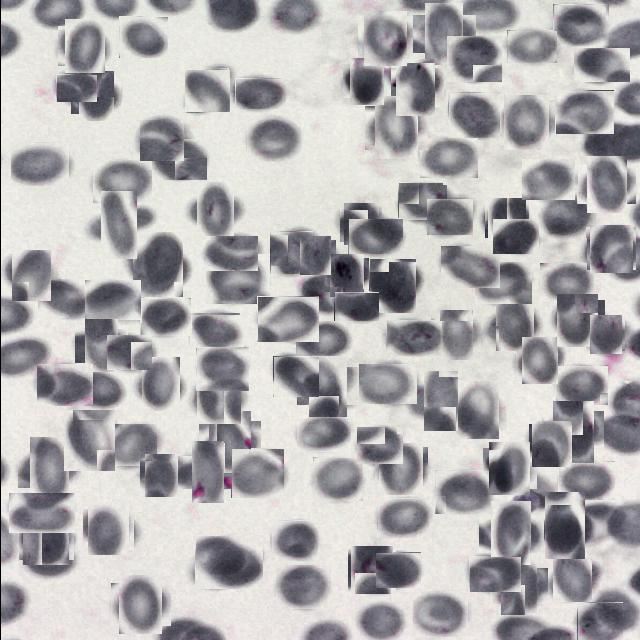red blood cell: (194, 535, 262, 589), (128, 235, 186, 293), (205, 254, 269, 304), (60, 412, 116, 469), (536, 498, 590, 552), (256, 296, 318, 342), (369, 102, 422, 154), (92, 198, 145, 250), (114, 578, 166, 630), (22, 442, 74, 494), (203, 416, 255, 468), (484, 507, 536, 559), (450, 383, 502, 435), (546, 406, 598, 458), (192, 370, 244, 421), (230, 448, 283, 498), (445, 35, 501, 82), (9, 493, 74, 533), (9, 142, 68, 186), (554, 90, 613, 134), (91, 160, 151, 203), (538, 192, 594, 238), (411, 591, 467, 637), (434, 470, 492, 514), (418, 9, 469, 59), (20, 512, 71, 562), (367, 262, 418, 312), (501, 98, 551, 148), (360, 14, 410, 64), (302, 361, 352, 411), (440, 246, 499, 288), (35, 363, 92, 406), (275, 565, 330, 609), (245, 117, 300, 161), (376, 444, 424, 494), (474, 262, 531, 304), (447, 92, 499, 138), (195, 346, 248, 391), (552, 4, 608, 46), (150, 138, 206, 180), (419, 138, 477, 178), (358, 364, 416, 404), (60, 22, 108, 70), (582, 160, 630, 208), (494, 562, 542, 610), (190, 187, 238, 235), (416, 378, 464, 426), (391, 64, 438, 112), (183, 448, 230, 496), (84, 280, 140, 320), (557, 461, 614, 500), (522, 159, 576, 200), (486, 444, 532, 492), (554, 296, 600, 344), (312, 457, 362, 501), (295, 321, 351, 360), (539, 263, 593, 303), (554, 365, 607, 405), (136, 362, 182, 408), (348, 548, 394, 594), (8, 253, 54, 299), (588, 226, 634, 272), (376, 498, 428, 538), (84, 507, 130, 552), (118, 16, 167, 58), (296, 414, 350, 452), (492, 302, 536, 348), (385, 320, 441, 356), (37, 279, 88, 318), (347, 218, 402, 254), (270, 520, 318, 561), (139, 298, 190, 336), (78, 324, 122, 368), (184, 68, 228, 112), (530, 422, 574, 466), (110, 424, 156, 466), (190, 312, 243, 348), (573, 48, 629, 82), (272, 356, 318, 397), (468, 556, 520, 592), (397, 182, 446, 220), (74, 75, 117, 118), (269, 231, 312, 274), (74, 371, 121, 410), (205, 236, 257, 271), (595, 589, 638, 631), (139, 120, 183, 161), (355, 426, 402, 464), (550, 558, 592, 600), (518, 339, 560, 381), (434, 314, 476, 356), (576, 602, 622, 640), (486, 198, 526, 240), (426, 199, 472, 235), (105, 334, 151, 370), (374, 552, 420, 588), (506, 30, 556, 63), (346, 60, 386, 101), (492, 219, 538, 254), (234, 78, 285, 109), (341, 204, 380, 243), (326, 256, 366, 294), (359, 603, 400, 639), (142, 456, 180, 494), (333, 292, 378, 322), (586, 316, 622, 352), (297, 238, 333, 273), (55, 74, 96, 102)
